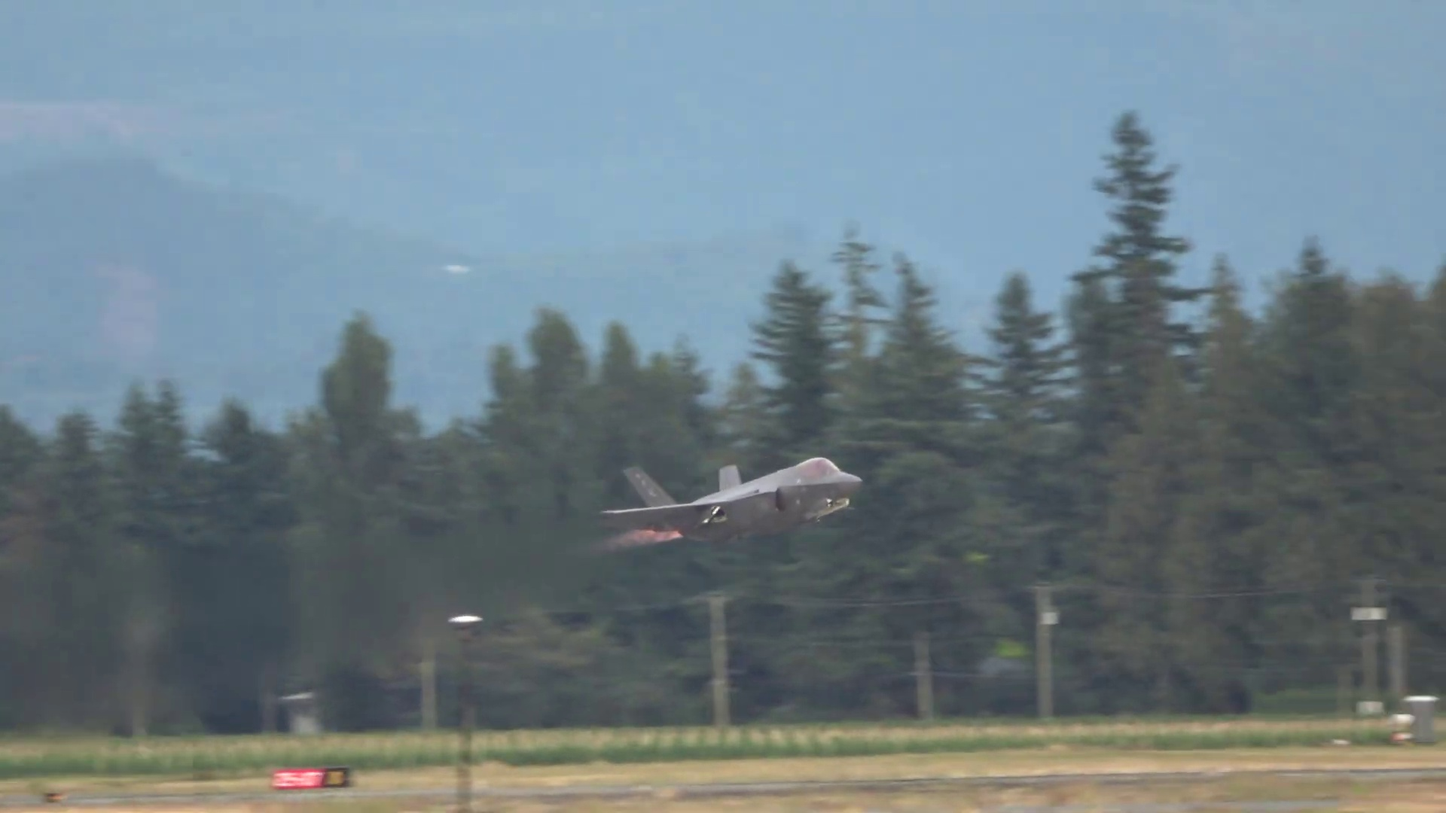F35: (591, 443, 866, 563)
